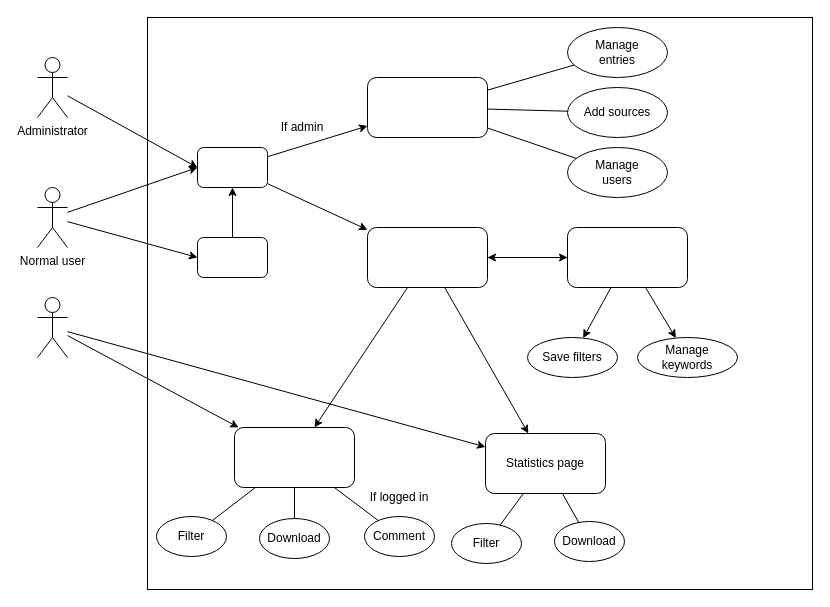
Some shapes in this 830 by 607 pixel diagram are drawn without their labels. The centre of each missing label's shape, as x and y in pixels:
Admin portal: point 427,107
Anonymous user: point 52,327
Browse page: point 294,457
Login: point 232,167
Preferences: point 627,257
Register: point 232,257
User portal: point 427,257
